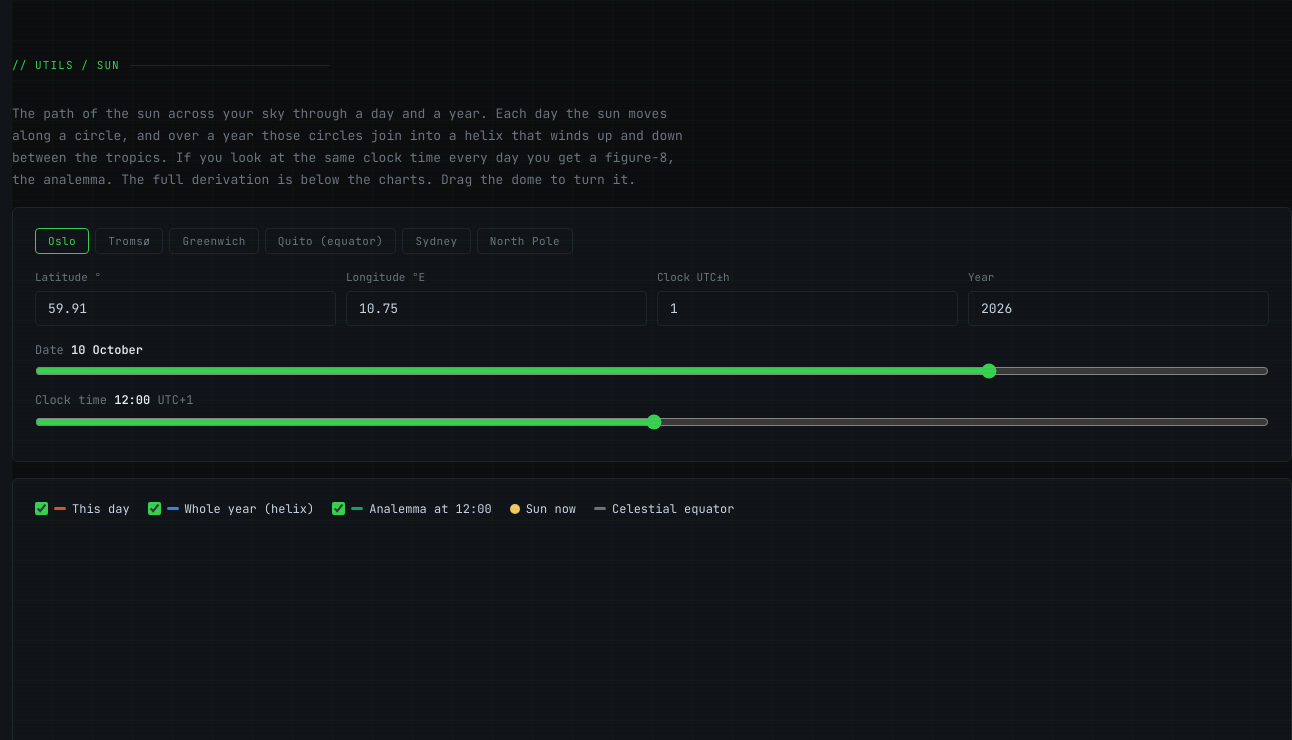
Test: /utils/sun page › shows the midnight sun at the North Pole in June
Click the button "North Pole" at (525, 241), box [477,228,573,254]
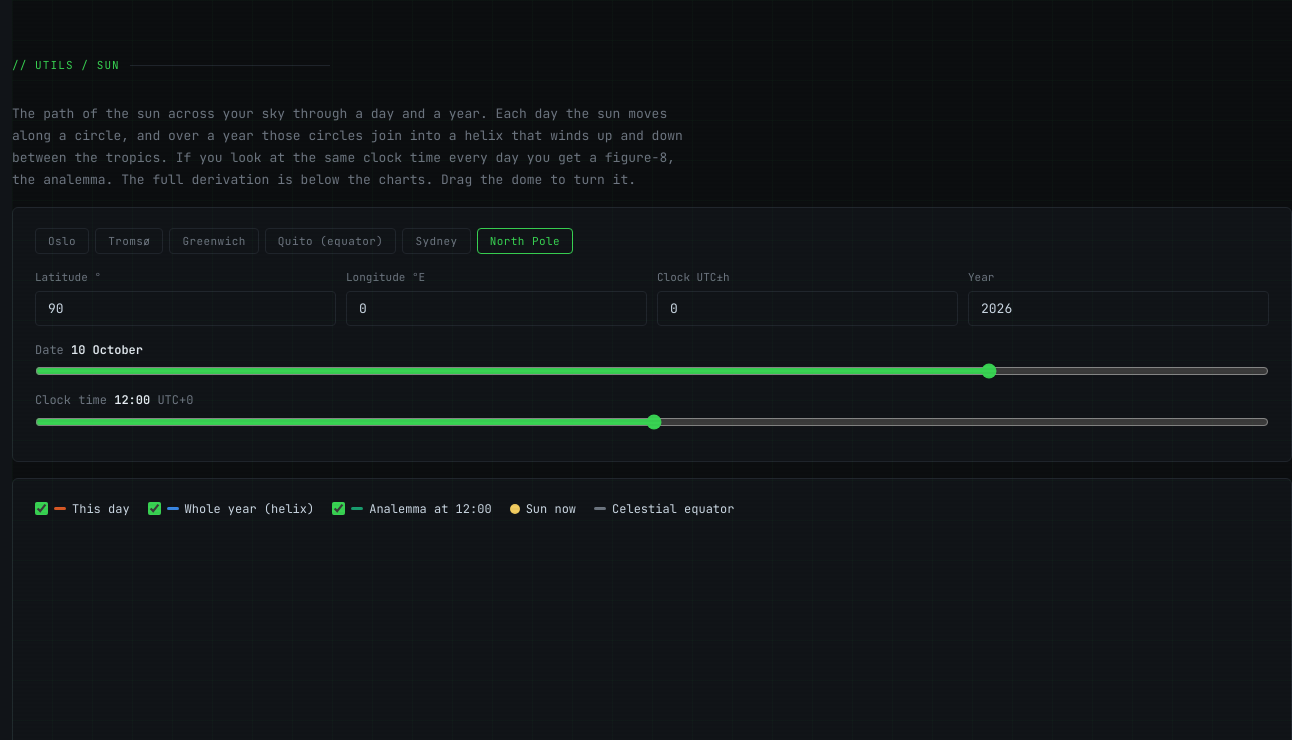
Set the slider labelled "Date 10 October" to "171" at (615, 371), box [35,362,1269,380]
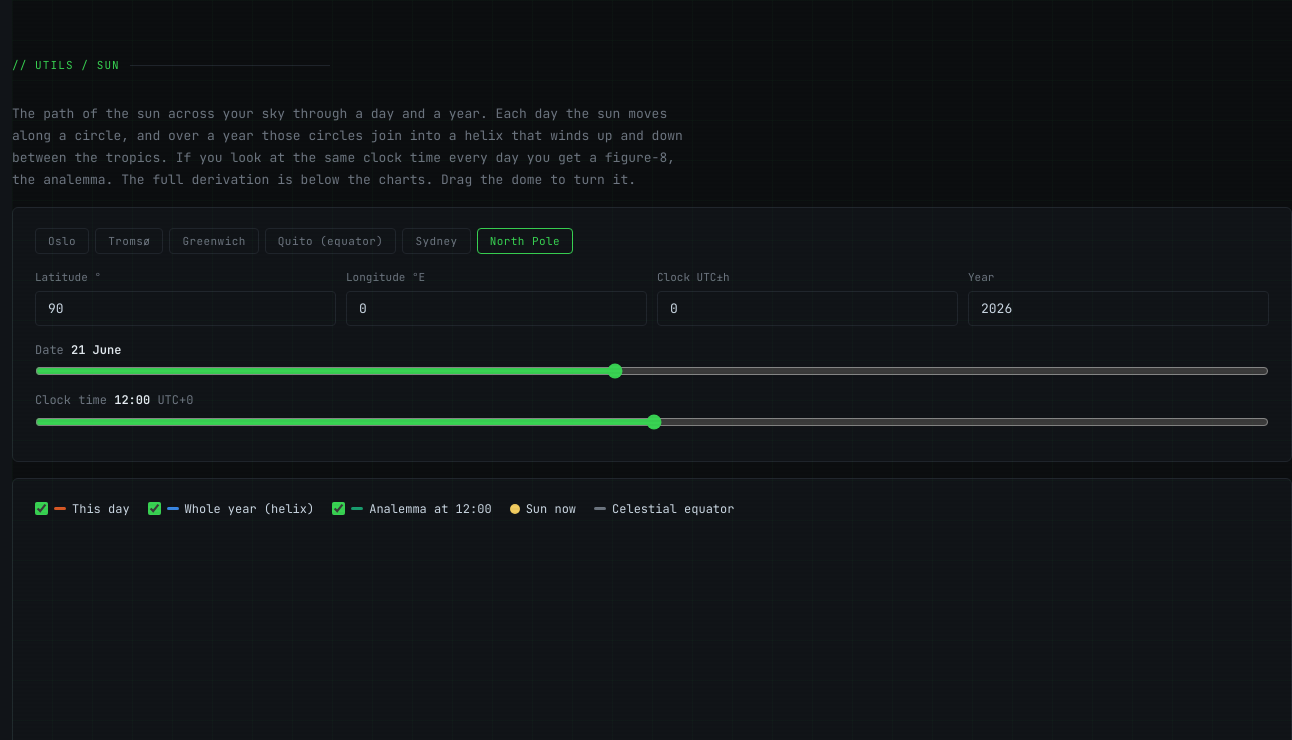
Set the slider labelled "Date 21 June" to "354" at (1228, 371), box [35,362,1269,380]
(page scrolled)
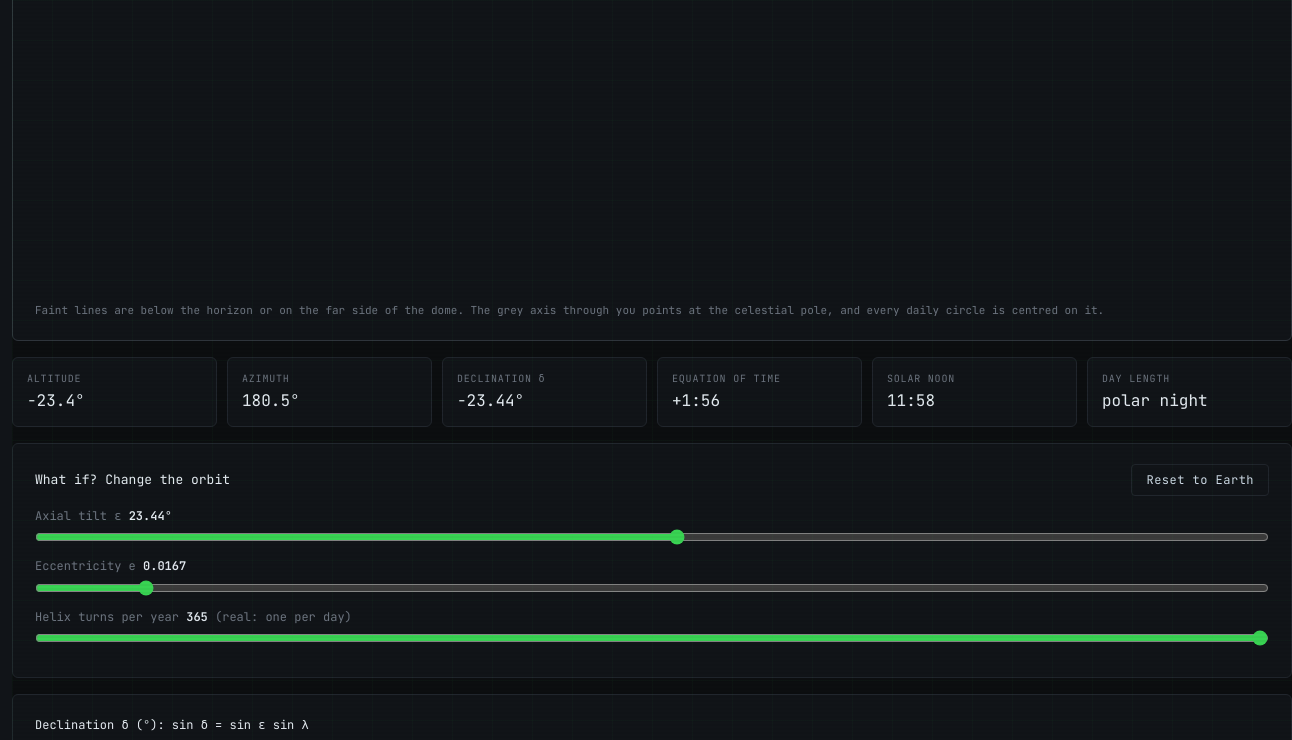
Expected: the text "polar night" is shown, [1102,390,1208,411]
